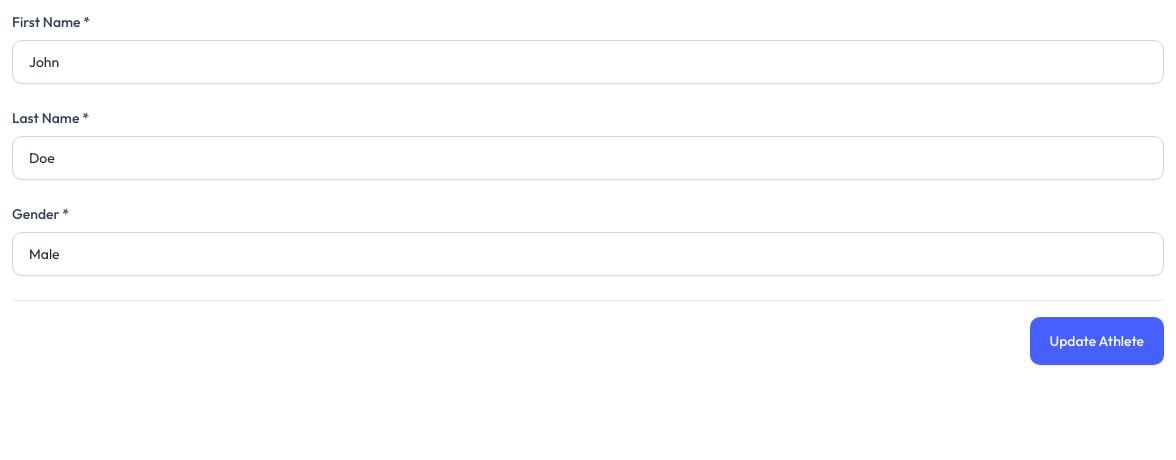
AthleteForm › Edit Mode › does not reset form after successful edit
// Update first name
Replace the text in the field labelled "First Name *" with "Jane" at {"x": 588, "y": 62}, box [12, 40, 1164, 84]
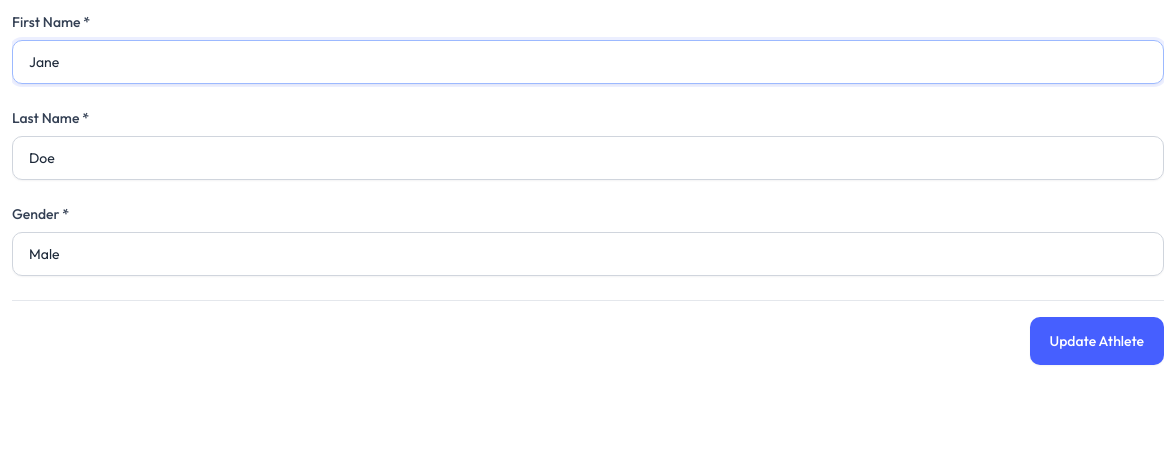
Click the button "Update Athlete" at {"x": 1097, "y": 341}, box [1030, 317, 1164, 365]
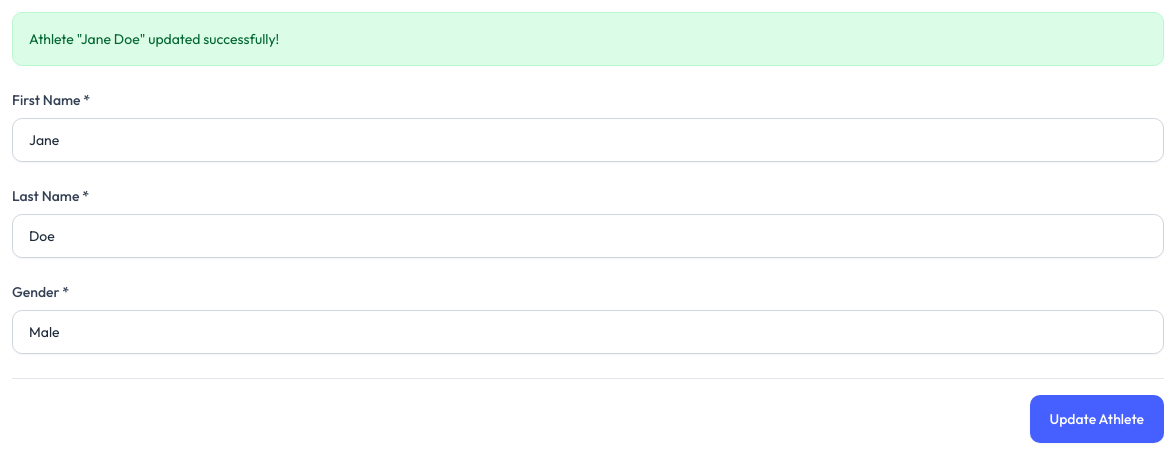
Expected: the field labelled "Last Name *" holds "Doe", [12, 214, 1164, 258]
Expected: the text "Athlete \"Jane Doe\" updated successfully!" is shown, [12, 12, 1164, 66]
